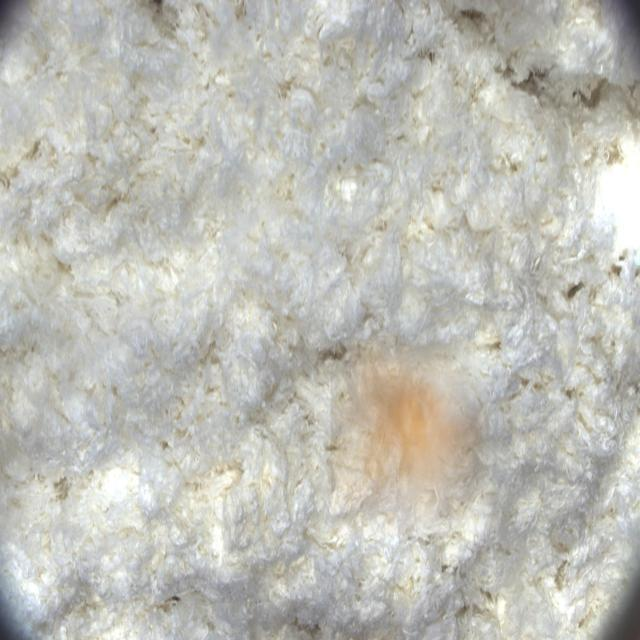dust: (331, 339, 490, 536)
